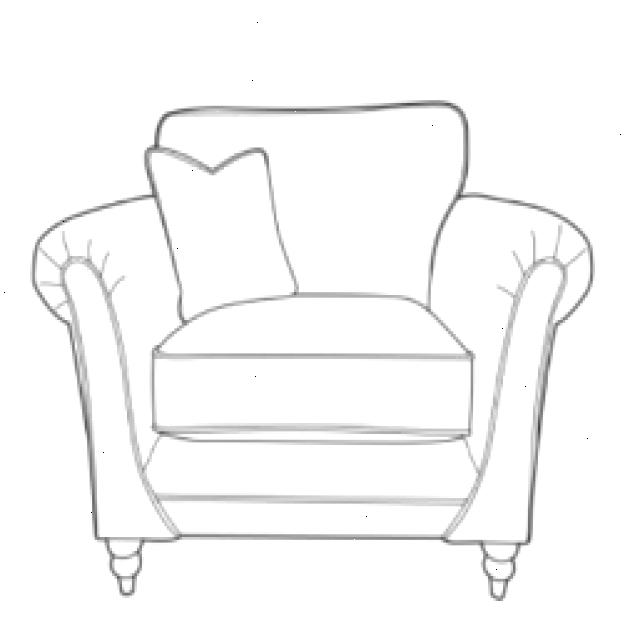Backrest: (145, 99, 471, 327)
Leg_Structure: (96, 530, 529, 602)
Seat: (154, 293, 473, 446)
sofa_armrest: (426, 193, 594, 544), (27, 191, 184, 540)
